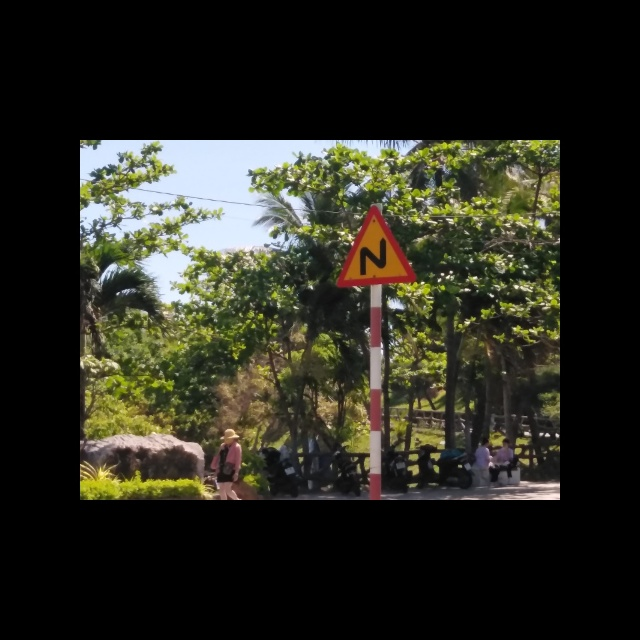Ngoặt nguy hiểm liên tiếp bên phải: (334, 203, 417, 289)
